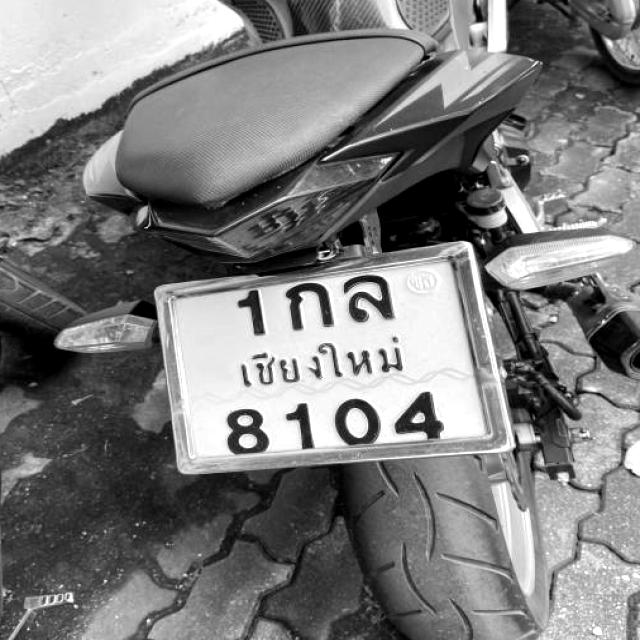letters: (334, 271, 400, 324), (210, 399, 269, 453), (336, 391, 387, 451), (278, 283, 335, 333), (397, 394, 455, 434), (282, 405, 323, 451), (237, 289, 274, 336)
license-plate: (161, 245, 501, 466)
province: (237, 346, 429, 378)
